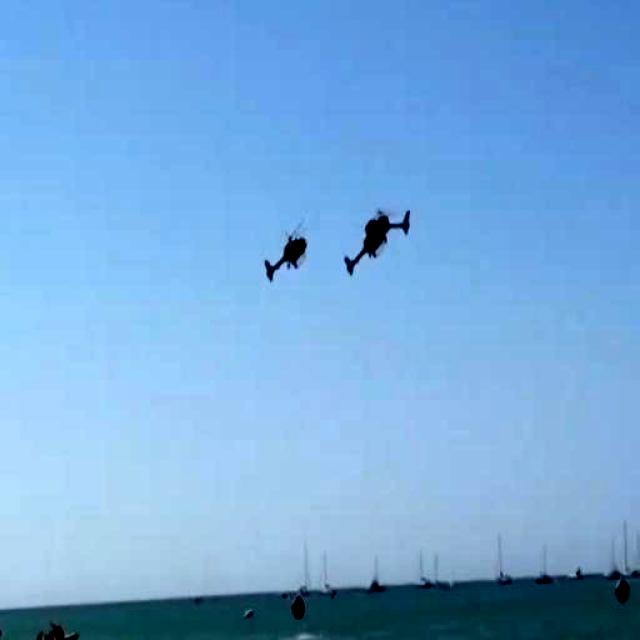drone: (344, 196, 409, 289), (252, 222, 316, 296)
